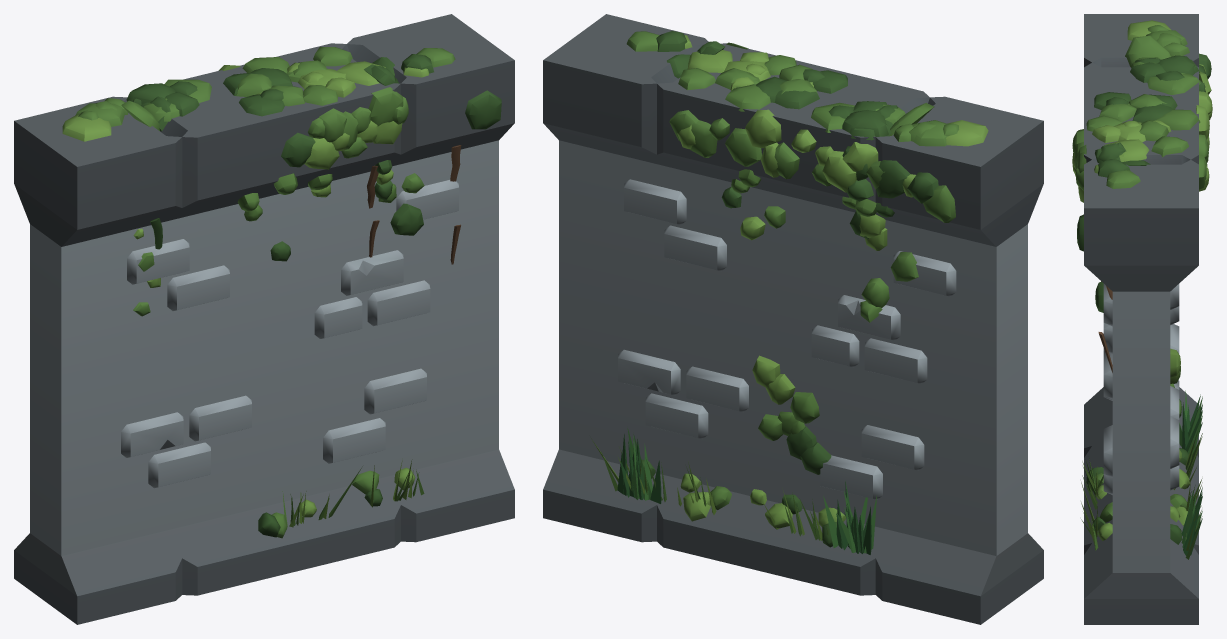
The model's file is wall_mossy_B.glb.
3 views of the same model, side by side, from view 1: azimuth 30°, elevation 25°; view 2: azimuth 150°, elevation 25°; view 3: azimuth 270°, elevation 25° (orthographic). The views are drawn at different scales.
Parts seen in each view (by area): view 1: Item; view 2: Item; view 3: Item.
Part boxes in pixels (x1,y1,x2,y2): Item: [14, 14, 514, 624]; Item: [543, 14, 1043, 624]; Item: [1072, 14, 1212, 624].
Bounding box in the file's own units: 4 × 4.16 × 1.22.
Materials: 3 (3 with a texture image).
